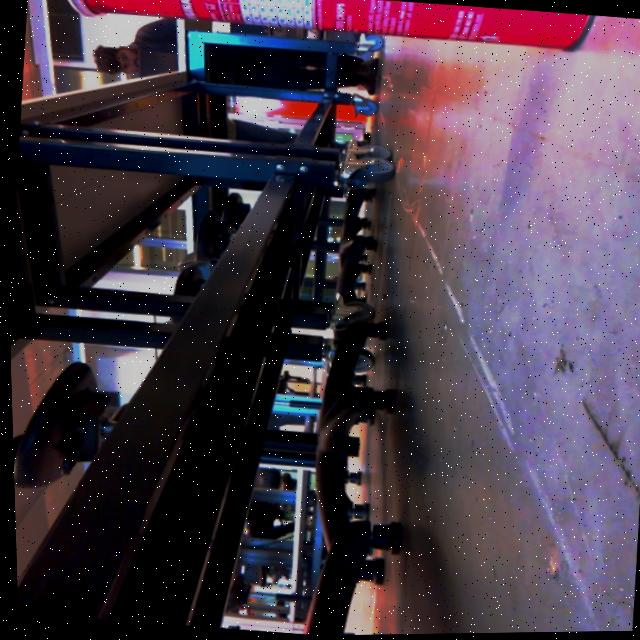redpringles: (39, 0, 624, 81)
